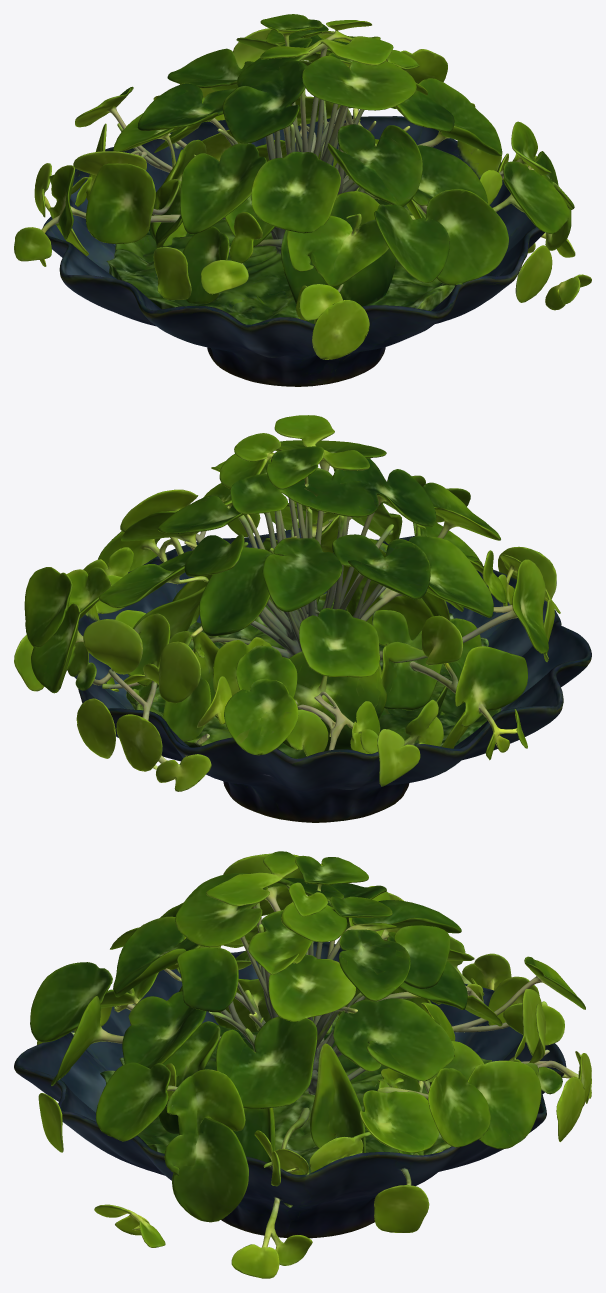
File: Miscellaneous [mHMhOu].glb
3 views of the same model, one above another, from view 1: azimuth 30°, elevation 25°; view 2: azimuth 150°, elevation 25°; view 3: azimuth 270°, elevation 25° (orthographic). The views are drawn at different scales.
Parts seen in each view (by area): view 1: geometry_0; view 2: geometry_0; view 3: geometry_0.
Part boxes in pixels (x1,y1,x2,y2): geometry_0: (14,14,591,386); geometry_0: (14,415,591,822); geometry_0: (14,851,591,1278).
Bounding box in the file's own units: 1 × 0.6332 × 0.9664.
Materials: 1 (1 with a texture image).
